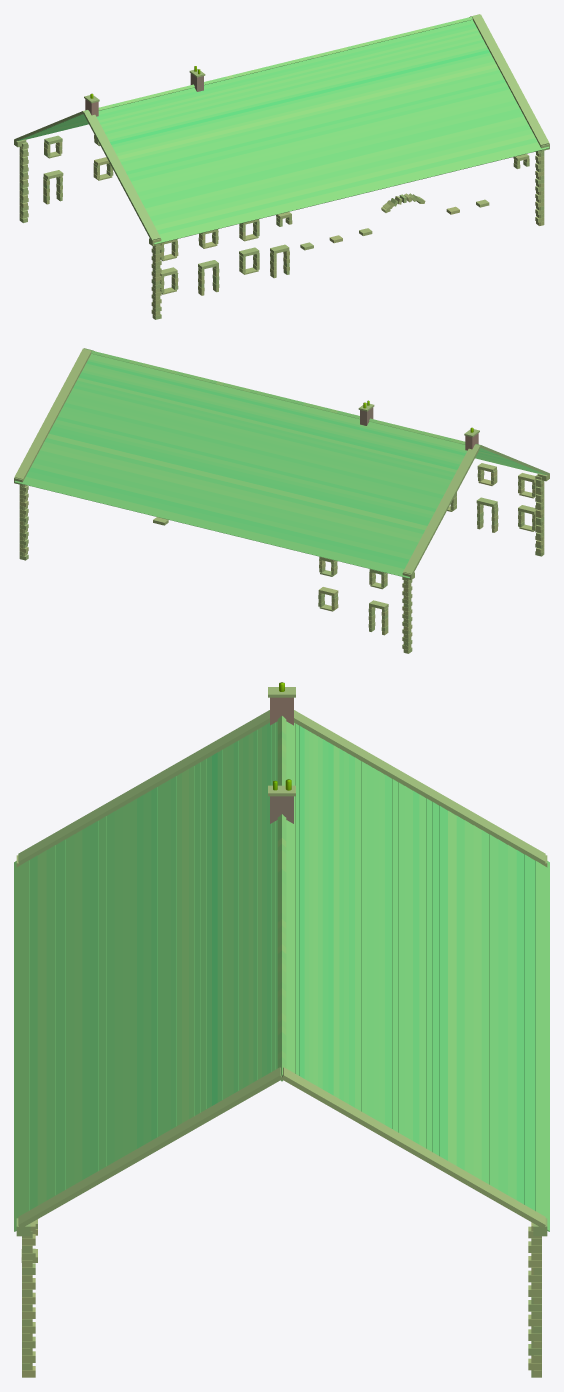
The model's file is SM_Bld_166_Stone.glb.
3 views of the same model, one above another, from view 1: azimuth 30°, elevation 25°; view 2: azimuth 150°, elevation 25°; view 3: azimuth 270°, elevation 25° (orthographic). The views are drawn at different scales.
Visible parts, largest first — view 1: SM_Bld_166_Stone; view 2: SM_Bld_166_Stone; view 3: SM_Bld_166_Stone.
Part boxes in pixels (x1,y1,x2,y2): SM_Bld_166_Stone: (14,14,549,319); SM_Bld_166_Stone: (14,348,549,653); SM_Bld_166_Stone: (14,682,549,1377).
Size of the model in its own units: 32.6 by 13.76 by 19.88.
